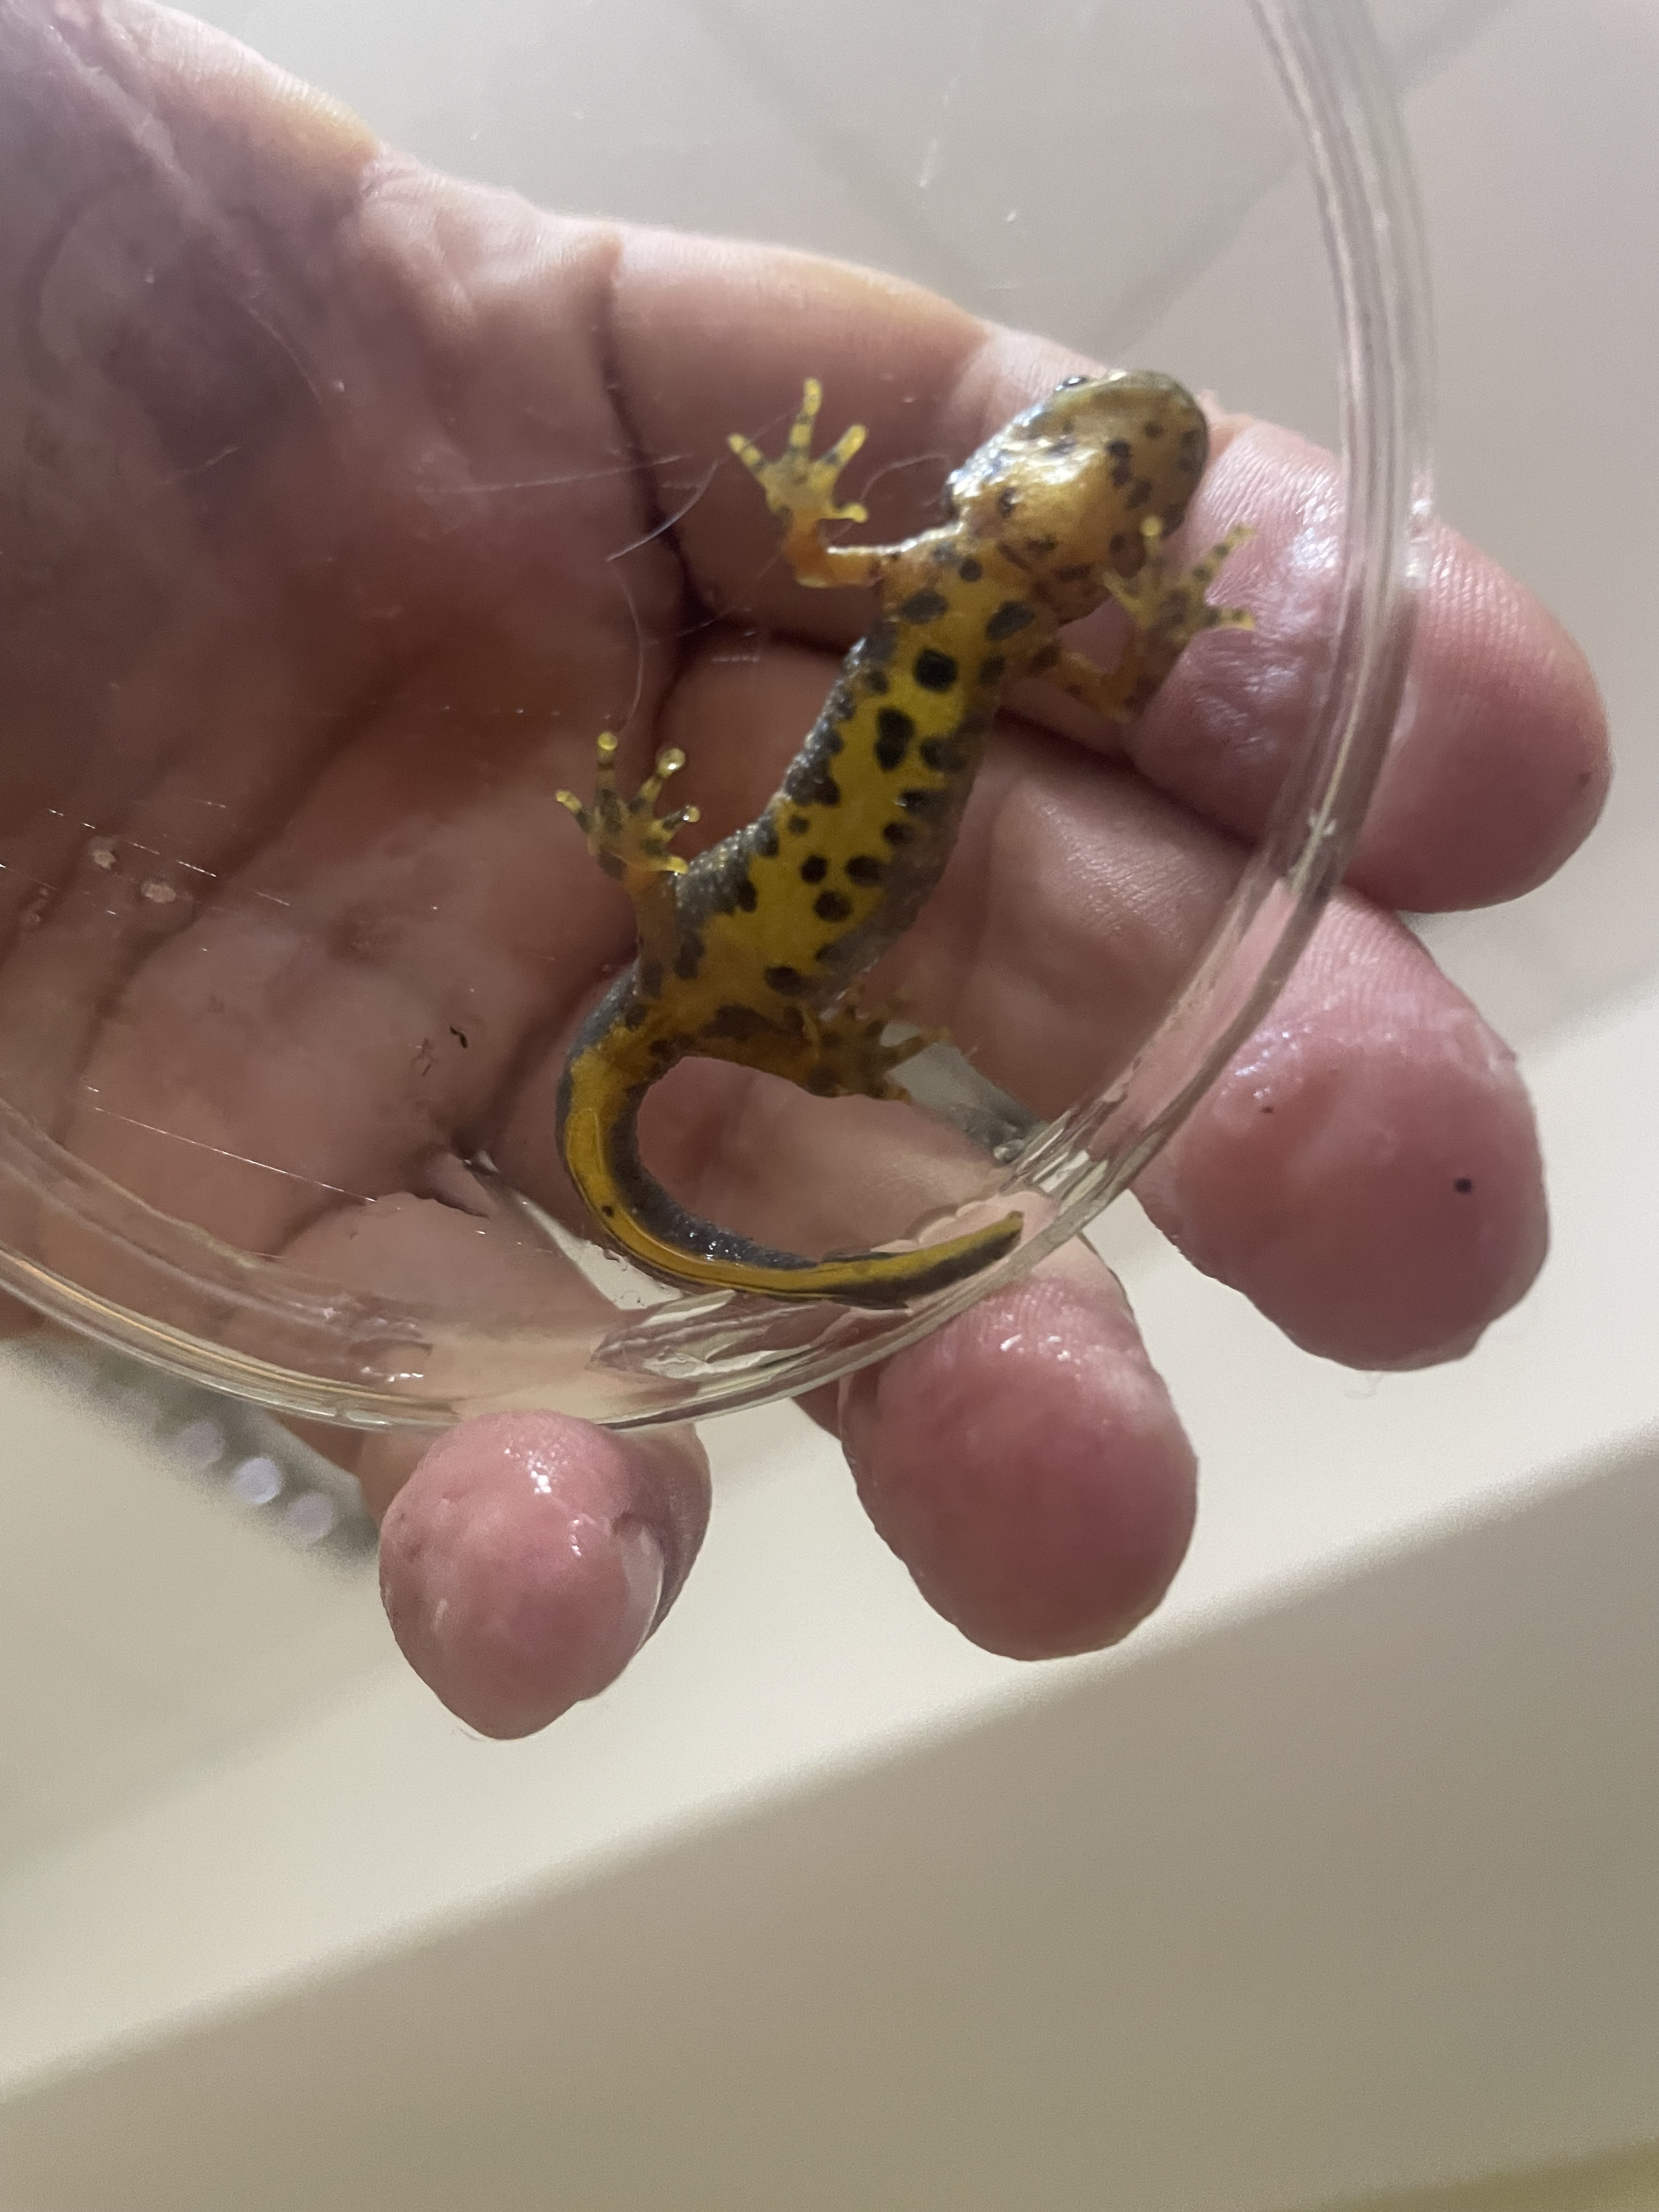Karelin_newt: (664, 582, 1028, 1029)
